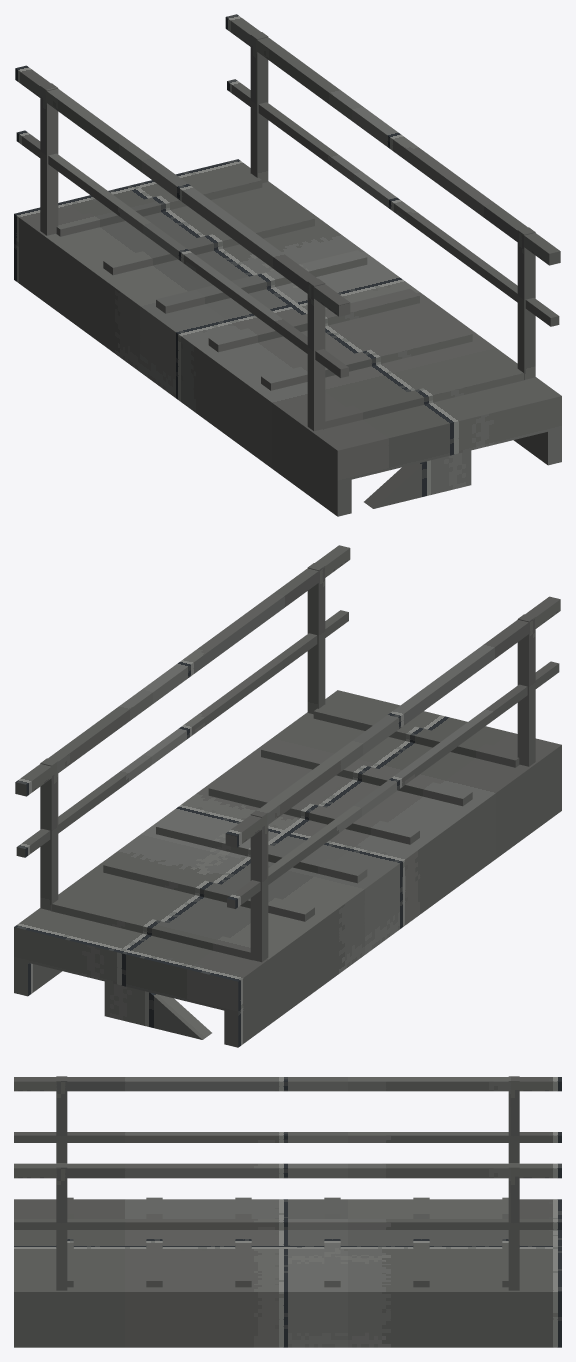
The model's file is arch_catwalk.glb.
3 views of the same model, one above another, from view 1: azimuth 30°, elevation 25°; view 2: azimuth 150°, elevation 25°; view 3: azimuth 270°, elevation 25° (orthographic). The views are drawn at different scales.
Parts seen in each view (by area): view 1: arch_catwalk; view 2: arch_catwalk; view 3: arch_catwalk.
Part boxes in pixels (box(x1,y1,x2,y2)): arch_catwalk: box(14, 14, 561, 516); arch_catwalk: box(14, 545, 561, 1047); arch_catwalk: box(14, 1076, 561, 1347).
Size of the model in its own units: 1.6 by 1.63 by 4.
Materials: 1 (1 with a texture image).
